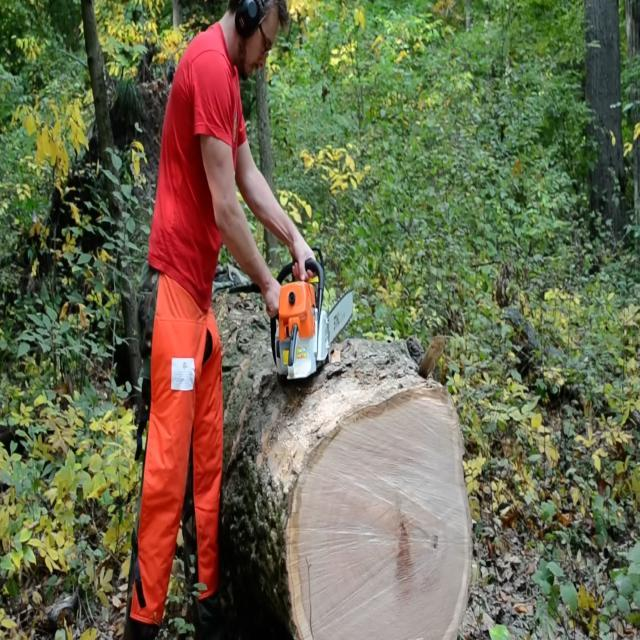Chainsaw: (263, 244, 356, 386)
